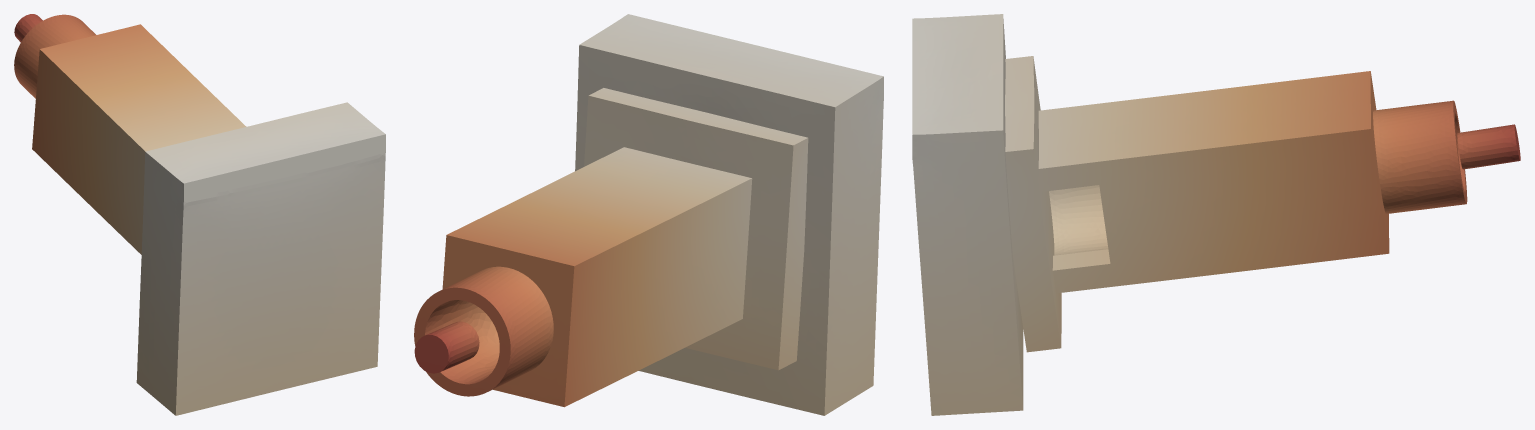
Rendered from pilot_nom_Fy_u.glb.
3 renders of one model, left to right at view 1: azimuth 30°, elevation 25°; view 2: azimuth 150°, elevation 25°; view 3: azimuth 270°, elevation 25°, orthographic. The views are drawn at different scales.
Visible parts, largest first — view 1: geometry_0; view 2: geometry_0; view 3: geometry_0.
Boxes of the visible parts, x1,y1,x2,y2 form: geometry_0: (14, 14, 385, 415); geometry_0: (414, 14, 883, 415); geometry_0: (912, 14, 1520, 415).
Bounding box in the file's own units: 120 × 137 × 265.
